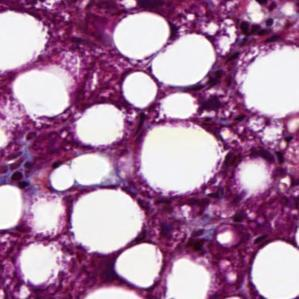inflammation: (246, 143, 290, 180)
